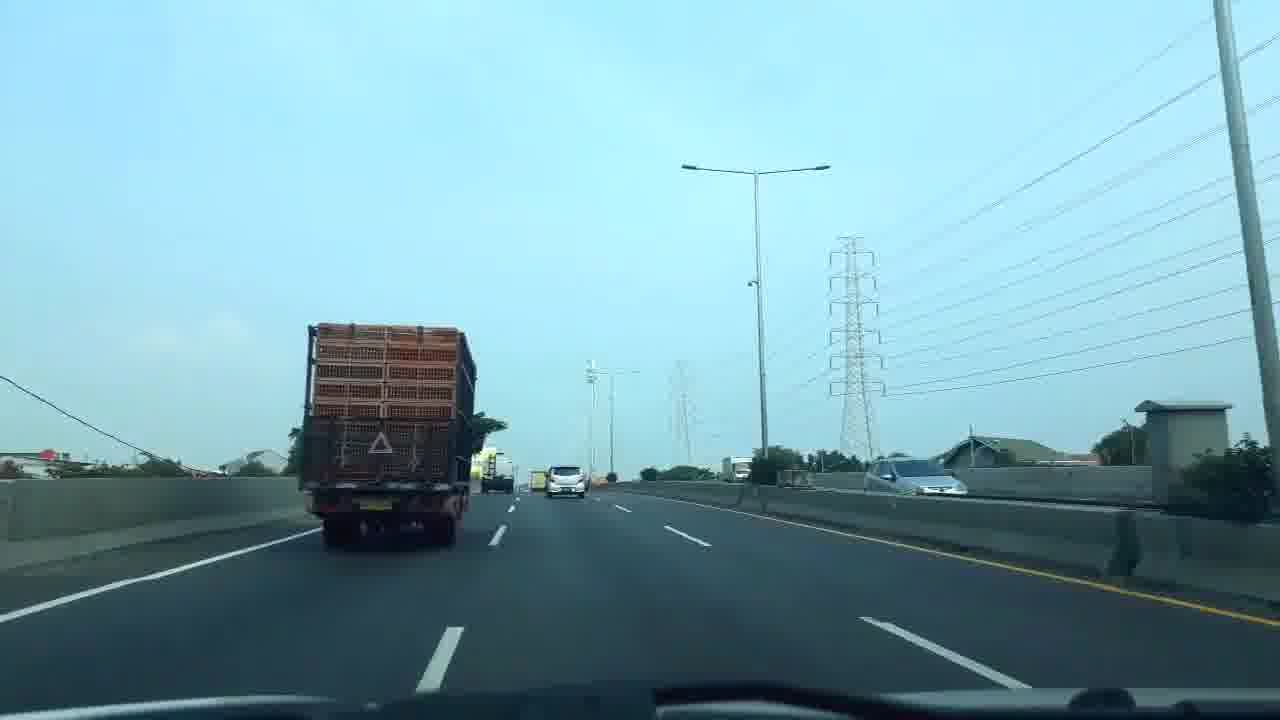plate_positive: (359, 497, 393, 510), (561, 487, 573, 492)
